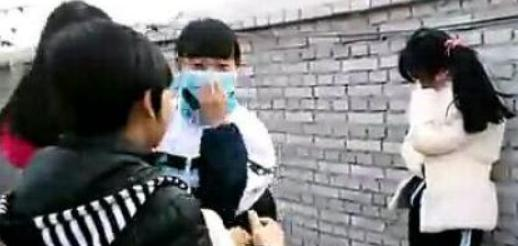OK: (178, 50, 233, 105)
